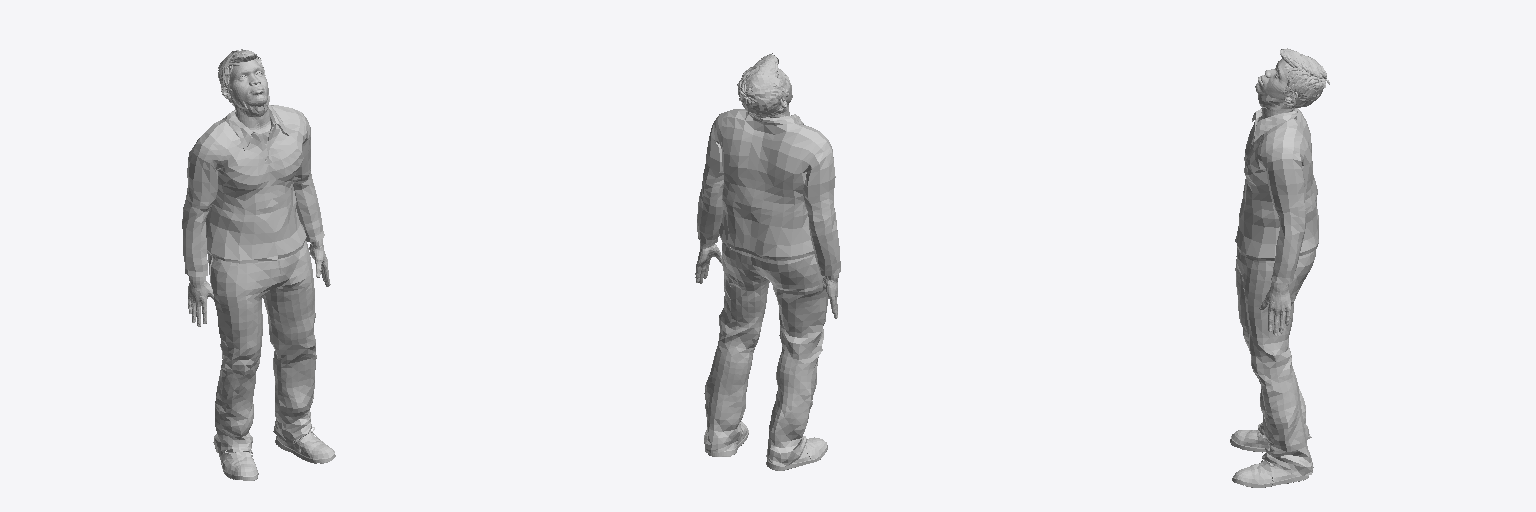
3 views of the same model, side by side, from view 1: azimuth 30°, elevation 25°; view 2: azimuth 150°, elevation 25°; view 3: azimuth 270°, elevation 25° (orthographic).
Parts seen in each view (by area): view 1: Tops_Topsmesh, Bottoms_Bottomsmesh, Body_Bodymesh, Shoes_Shoesmesh, Hair_Hairmesh; view 2: Tops_Topsmesh, Bottoms_Bottomsmesh, Hair_Hairmesh, Body_Bodymesh, Shoes_Shoesmesh; view 3: Tops_Topsmesh, Bottoms_Bottomsmesh, Body_Bodymesh, Shoes_Shoesmesh, Hair_Hairmesh.
Boxes of the visible parts, <box> form: Tops_Topsmesh: <box>182,105,324,276</box>; Bottoms_Bottomsmesh: <box>207,241,316,453</box>; Body_Bodymesh: <box>188,59,330,326</box>; Shoes_Shoesmesh: <box>219,427,335,480</box>; Hair_Hairmesh: <box>218,49,265,106</box>; Tops_Topsmesh: <box>697,109,840,275</box>; Bottoms_Bottomsmesh: <box>704,242,828,466</box>; Hair_Hairmesh: <box>737,53,788,118</box>; Body_Bodymesh: <box>695,68,838,318</box>; Shoes_Shoesmesh: <box>708,421,827,470</box>; Tops_Topsmesh: <box>1235,108,1318,282</box>; Bottoms_Bottomsmesh: <box>1235,248,1316,475</box>; Body_Bodymesh: <box>1255,59,1297,335</box>; Shoes_Shoesmesh: <box>1230,430,1308,487</box>; Hair_Hairmesh: <box>1280,48,1329,107</box>.
Size of the model in its own units: 67.18 by 184 by 40.85.